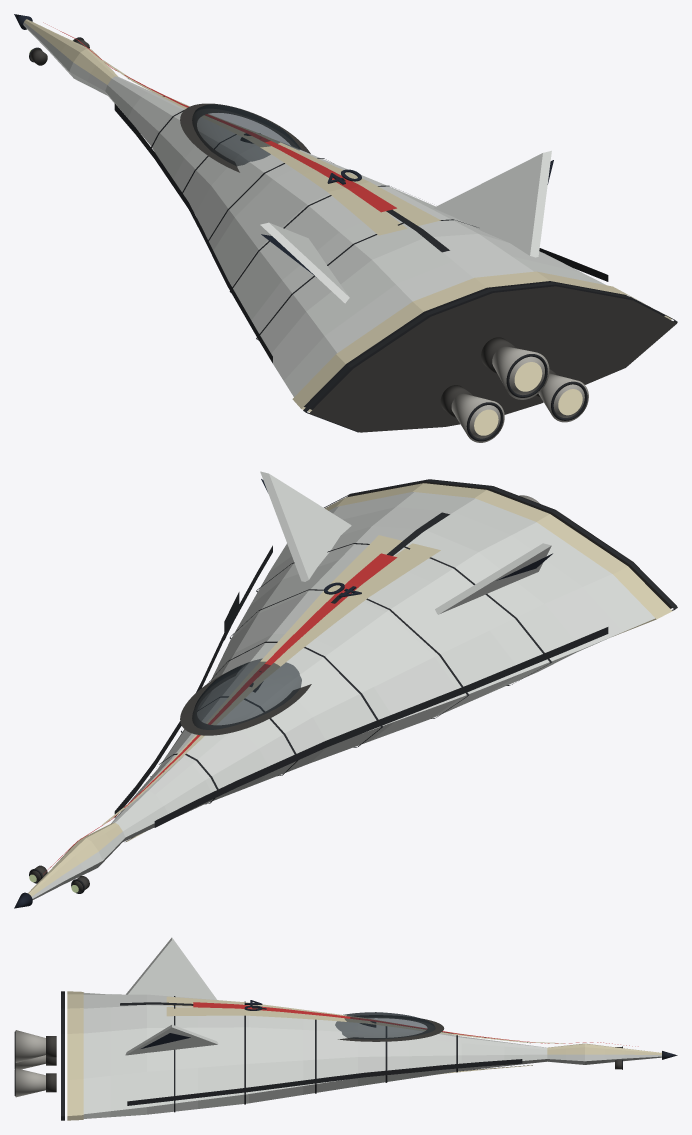
File: Ship_PyramidLifter_327178.glb
3 views of the same model, one above another, from view 1: azimuth 30°, elevation 25°; view 2: azimuth 150°, elevation 25°; view 3: azimuth 270°, elevation 25° (orthographic). The views are drawn at different scales.
Parts seen in each view (by area): view 1: Fuselage_MainPyramidalLiftingBody, EngineDeck_AftFacetedDarkMountPlate, TailFin_Right_ShortCantedStabilizer, EngineDeck_AftOuterArmorCollar, PaintDorsalArrow_PrimaryBroadBlade, CanopyGlass_LowInsetSmokedDome, Nose_FacetedRamNeedle, CanopyFrame_LowInsetArmoredOvalRim, TailFin_Left_ShortCantedStabilizer, EngineEmitter, PaintDorsalArrow_SecondaryNeedleStripe, EngineDeck_AftDarkCompressionSeal (+4 smaller); view 2: Fuselage_MainPyramidalLiftingBody, PaintDorsalArrow_PrimaryBroadBlade, CanopyGlass_LowInsetSmokedDome, EngineDeck_AftOuterArmorCollar, TailFin_Right_ShortCantedStabilizer, SideChinePanel_Left_LongDarkArmorJoint, Nose_FacetedRamNeedle, PaintDorsalArrow_SecondaryNeedleStripe, CanopyFrame_LowInsetArmoredOvalRim, TailFin_Left_ShortCantedStabilizer, EngineDeck_AftDarkCompressionSeal, EngineDeck_AftFacetedDarkMountPlate (+1 smaller); view 3: Fuselage_MainPyramidalLiftingBody, TailFin_Left_ShortCantedStabilizer, PaintDorsalArrow_PrimaryBroadBlade, EngineDeck_AftOuterArmorCollar, CanopyGlass_LowInsetSmokedDome, SideChinePanel_Right_LongDarkArmorJoint, Nose_FacetedRamNeedle, TailFin_Right_ShortCantedStabilizer, PaintDorsalArrow_SecondaryNeedleStripe, CanopyFrame_LowInsetArmoredOvalRim, EngineBell_CenterUpper_BurnishedNozzle, EngineBell_RightLower_BurnishedNozzle (+1 smaller).
Part boxes in pixels (x1,y1,x2,y2): Fuselage_MainPyramidalLiftingBody: (105, 76, 664, 409); EngineDeck_AftFacetedDarkMountPlate: (309, 286, 676, 432); TailFin_Right_ShortCantedStabilizer: (433, 150, 551, 257); EngineDeck_AftOuterArmorCollar: (292, 271, 671, 412); PaintDorsalArrow_PrimaryBroadBlade: (102, 60, 440, 235); CanopyGlass_LowInsetSmokedDome: (192, 104, 301, 166); Nose_FacetedRamNeedle: (23, 19, 118, 95); CanopyFrame_LowInsetArmoredOvalRim: (180, 103, 310, 172); TailFin_Left_ShortCantedStabilizer: (260, 222, 349, 303); EngineEmitter: (474, 362, 582, 435); PaintDorsalArrow_SecondaryNeedleStripe: (43, 22, 396, 212); EngineDeck_AftDarkCompressionSeal: (303, 282, 677, 432); Fuselage_MainPyramidalLiftingBody: (111, 492, 655, 841); PaintDorsalArrow_PrimaryBroadBlade: (102, 535, 440, 824); CanopyGlass_LowInsetSmokedDome: (192, 658, 301, 729); EngineDeck_AftOuterArmorCollar: (325, 483, 672, 636); TailFin_Right_ShortCantedStabilizer: (260, 471, 351, 581); SideChinePanel_Left_LongDarkArmorJoint: (154, 627, 608, 827); Nose_FacetedRamNeedle: (28, 823, 125, 899); PaintDorsalArrow_SecondaryNeedleStripe: (43, 553, 397, 874); CanopyFrame_LowInsetArmoredOvalRim: (180, 666, 311, 735); TailFin_Left_ShortCantedStabilizer: (435, 543, 551, 614); EngineDeck_AftDarkCompressionSeal: (324, 479, 677, 610); EngineDeck_AftFacetedDarkMountPlate: (330, 479, 676, 608); Fuselage_MainPyramidalLiftingBody: (83, 992, 547, 1118); TailFin_Left_ShortCantedStabilizer: (126, 937, 216, 999); PaintDorsalArrow_PrimaryBroadBlade: (166, 996, 563, 1043); EngineDeck_AftOuterArmorCollar: (67, 991, 83, 1120); CanopyGlass_LowInsetSmokedDome: (335, 1012, 435, 1039); SideChinePanel_Right_LongDarkArmorJoint: (127, 1059, 522, 1105); Nose_FacetedRamNeedle: (547, 1043, 661, 1064); TailFin_Right_ShortCantedStabilizer: (125, 1024, 218, 1055); PaintDorsalArrow_SecondaryNeedleStripe: (193, 1002, 638, 1046); CanopyFrame_LowInsetArmoredOvalRim: (338, 1015, 444, 1041); EngineBell_CenterUpper_BurnishedNozzle: (15, 1030, 45, 1062); EngineBell_RightLower_BurnishedNozzle: (15, 1068, 45, 1097).
Bounding box in the file's own units: 2.93 × 1.31 × 7.01.
